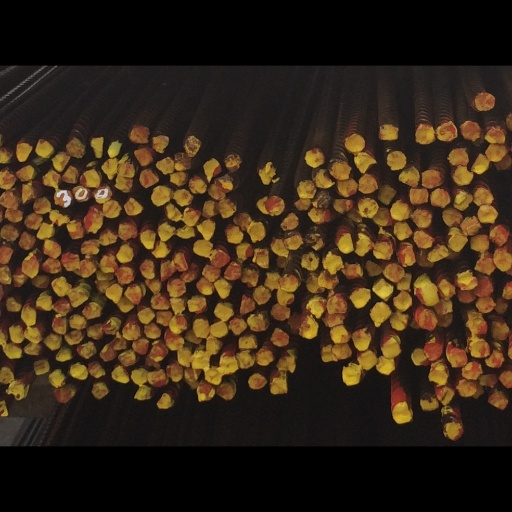dipstick: (369, 317, 390, 350), (372, 286, 393, 317), (247, 329, 270, 356), (392, 452, 413, 481), (484, 103, 507, 129), (353, 117, 375, 144), (349, 297, 370, 325), (351, 353, 370, 383), (215, 423, 236, 450), (475, 254, 496, 281), (417, 294, 437, 322), (411, 190, 431, 218), (342, 399, 360, 430), (418, 327, 437, 356), (454, 277, 476, 302), (313, 139, 334, 165), (398, 137, 419, 163), (321, 253, 342, 279), (436, 76, 457, 102), (357, 145, 377, 172), (460, 74, 480, 101), (265, 174, 284, 202), (298, 339, 317, 367), (382, 266, 404, 290), (138, 139, 159, 164), (331, 175, 352, 200), (442, 479, 463, 504), (442, 191, 463, 216), (50, 115, 70, 141), (213, 318, 233, 344), (304, 111, 324, 137), (337, 150, 357, 176), (390, 181, 410, 207), (388, 330, 408, 356), (459, 202, 479, 228), (453, 134, 473, 160), (307, 310, 326, 337), (183, 93, 201, 121), (343, 92, 364, 116), (79, 138, 99, 163), (68, 299, 88, 324), (326, 309, 346, 334), (392, 303, 412, 328), (477, 187, 497, 212), (129, 79, 149, 104), (66, 97, 85, 123), (252, 295, 271, 321), (359, 178, 378, 204), (387, 114, 406, 140), (373, 189, 392, 215), (329, 348, 348, 374), (381, 366, 400, 392), (493, 250, 512, 276), (52, 282, 70, 309), (415, 78, 433, 105), (470, 118, 488, 145), (150, 234, 171, 257), (307, 190, 330, 211), (148, 93, 168, 117), (209, 246, 229, 270), (474, 36, 494, 60), (124, 293, 141, 321), (35, 99, 54, 124), (111, 402, 130, 427), (167, 286, 186, 311), (393, 209, 412, 234), (357, 384, 376, 409), (421, 139, 440, 164), (453, 169, 472, 194), (151, 162, 169, 188), (247, 210, 265, 236), (297, 153, 315, 179), (376, 390, 394, 416), (317, 278, 338, 300), (428, 241, 449, 263), (456, 422, 476, 445), (448, 111, 468, 134), (197, 207, 214, 234), (490, 215, 507, 242), (83, 199, 102, 223), (7, 425, 26, 449), (163, 185, 182, 209), (279, 280, 298, 304), (270, 353, 289, 377), (489, 439, 508, 463), (430, 166, 449, 190), (484, 383, 503, 407), (191, 382, 209, 407), (218, 179, 236, 204), (490, 345, 508, 370), (21, 257, 37, 285), (62, 250, 79, 276), (193, 339, 210, 365), (214, 287, 231, 313), (270, 319, 290, 341), (305, 282, 325, 304), (473, 165, 493, 187), (71, 160, 90, 183), (77, 370, 96, 393), (147, 409, 166, 432), (174, 165, 193, 188), (193, 234, 212, 257), (462, 399, 481, 422), (470, 370, 489, 393), (149, 374, 167, 398), (169, 336, 187, 360), (236, 383, 254, 407), (182, 190, 200, 214), (233, 197, 251, 221), (253, 245, 269, 272), (409, 163, 427, 187), (411, 379, 429, 403), (420, 439, 438, 463), (15, 104, 32, 129), (0, 169, 17, 194), (48, 407, 65, 432), (105, 293, 122, 318), (157, 210, 174, 235), (224, 262, 241, 287), (189, 147, 206, 172), (331, 373, 351, 394), (484, 85, 505, 105), (202, 124, 221, 146), (470, 227, 489, 249), (0, 139, 16, 165), (139, 260, 155, 286), (172, 250, 188, 276), (439, 289, 455, 315), (134, 111, 152, 134), (53, 167, 71, 190), (124, 178, 142, 201), (43, 235, 61, 258), (24, 350, 42, 373), (165, 401, 183, 424), (99, 255, 117, 278), (154, 327, 172, 350), (165, 359, 183, 382), (219, 391, 237, 414), (374, 237, 392, 260), (414, 221, 432, 244), (61, 134, 78, 158), (103, 180, 120, 204), (18, 222, 35, 246), (122, 346, 139, 370), (208, 158, 225, 182), (397, 245, 414, 269), (438, 431, 454, 456), (32, 176, 51, 197), (82, 318, 101, 339), (187, 309, 206, 330), (378, 79, 397, 100), (428, 409, 447, 430), (16, 133, 34, 155), (24, 197, 42, 219), (1, 213, 19, 235), (91, 425, 109, 447), (115, 271, 133, 293), (155, 122, 173, 144), (203, 406, 221, 428), (248, 413, 266, 435), (196, 285, 214, 307), (228, 339, 246, 361), (202, 267, 220, 289), (280, 197, 298, 219), (476, 309, 494, 331), (449, 228, 467, 250), (80, 260, 97, 283), (144, 344, 161, 367), (173, 117, 190, 140), (224, 119, 241, 142), (238, 309, 255, 332), (159, 260, 174, 286), (338, 226, 353, 252), (355, 230, 370, 256), (43, 139, 59, 163), (117, 240, 133, 264), (241, 272, 257, 296), (333, 129, 349, 153), (424, 372, 440, 396), (150, 308, 170, 327), (238, 361, 257, 381), (42, 258, 60, 279), (52, 311, 70, 332), (196, 429, 214, 450), (343, 265, 361, 286), (94, 163, 111, 185), (66, 210, 83, 232), (37, 210, 54, 232), (43, 359, 60, 381), (54, 431, 71, 453), (70, 400, 87, 422), (137, 325, 154, 347), (99, 220, 116, 242), (225, 216, 242, 238), (450, 383, 467, 405), (52, 337, 68, 360), (202, 181, 218, 204), (182, 405, 201, 424), (116, 130, 134, 150), (31, 278, 49, 298), (64, 354, 82, 374), (55, 377, 73, 397), (118, 212, 136, 232), (169, 140, 187, 160), (177, 379, 192, 403), (88, 397, 105, 418), (215, 149, 232, 170), (277, 391, 294, 412), (364, 261, 381, 282), (131, 406, 147, 428), (132, 365, 148, 387), (263, 278, 279, 300), (89, 97, 102, 124), (140, 221, 154, 246), (271, 419, 286, 442), (69, 334, 87, 353), (479, 412, 497, 431), (100, 125, 117, 145), (115, 148, 132, 168), (4, 373, 21, 393), (87, 347, 104, 367), (210, 344, 227, 364), (5, 311, 21, 332), (156, 439, 172, 460), (206, 363, 220, 387), (256, 381, 272, 402), (170, 311, 186, 332), (236, 238, 252, 259), (21, 327, 36, 349), (9, 350, 24, 372), (118, 309, 133, 331), (133, 430, 151, 448), (4, 190, 21, 209), (32, 395, 49, 414), (283, 228, 300, 247), (99, 376, 115, 396), (145, 286, 161, 306), (471, 341, 487, 361), (103, 340, 118, 361), (0, 404, 13, 428), (257, 176, 270, 200), (304, 251, 318, 273), (81, 235, 98, 253), (36, 311, 52, 330), (118, 384, 134, 403), (258, 139, 273, 158), (321, 377, 335, 397), (293, 179, 310, 195), (95, 287, 109, 305), (106, 109, 118, 123)
